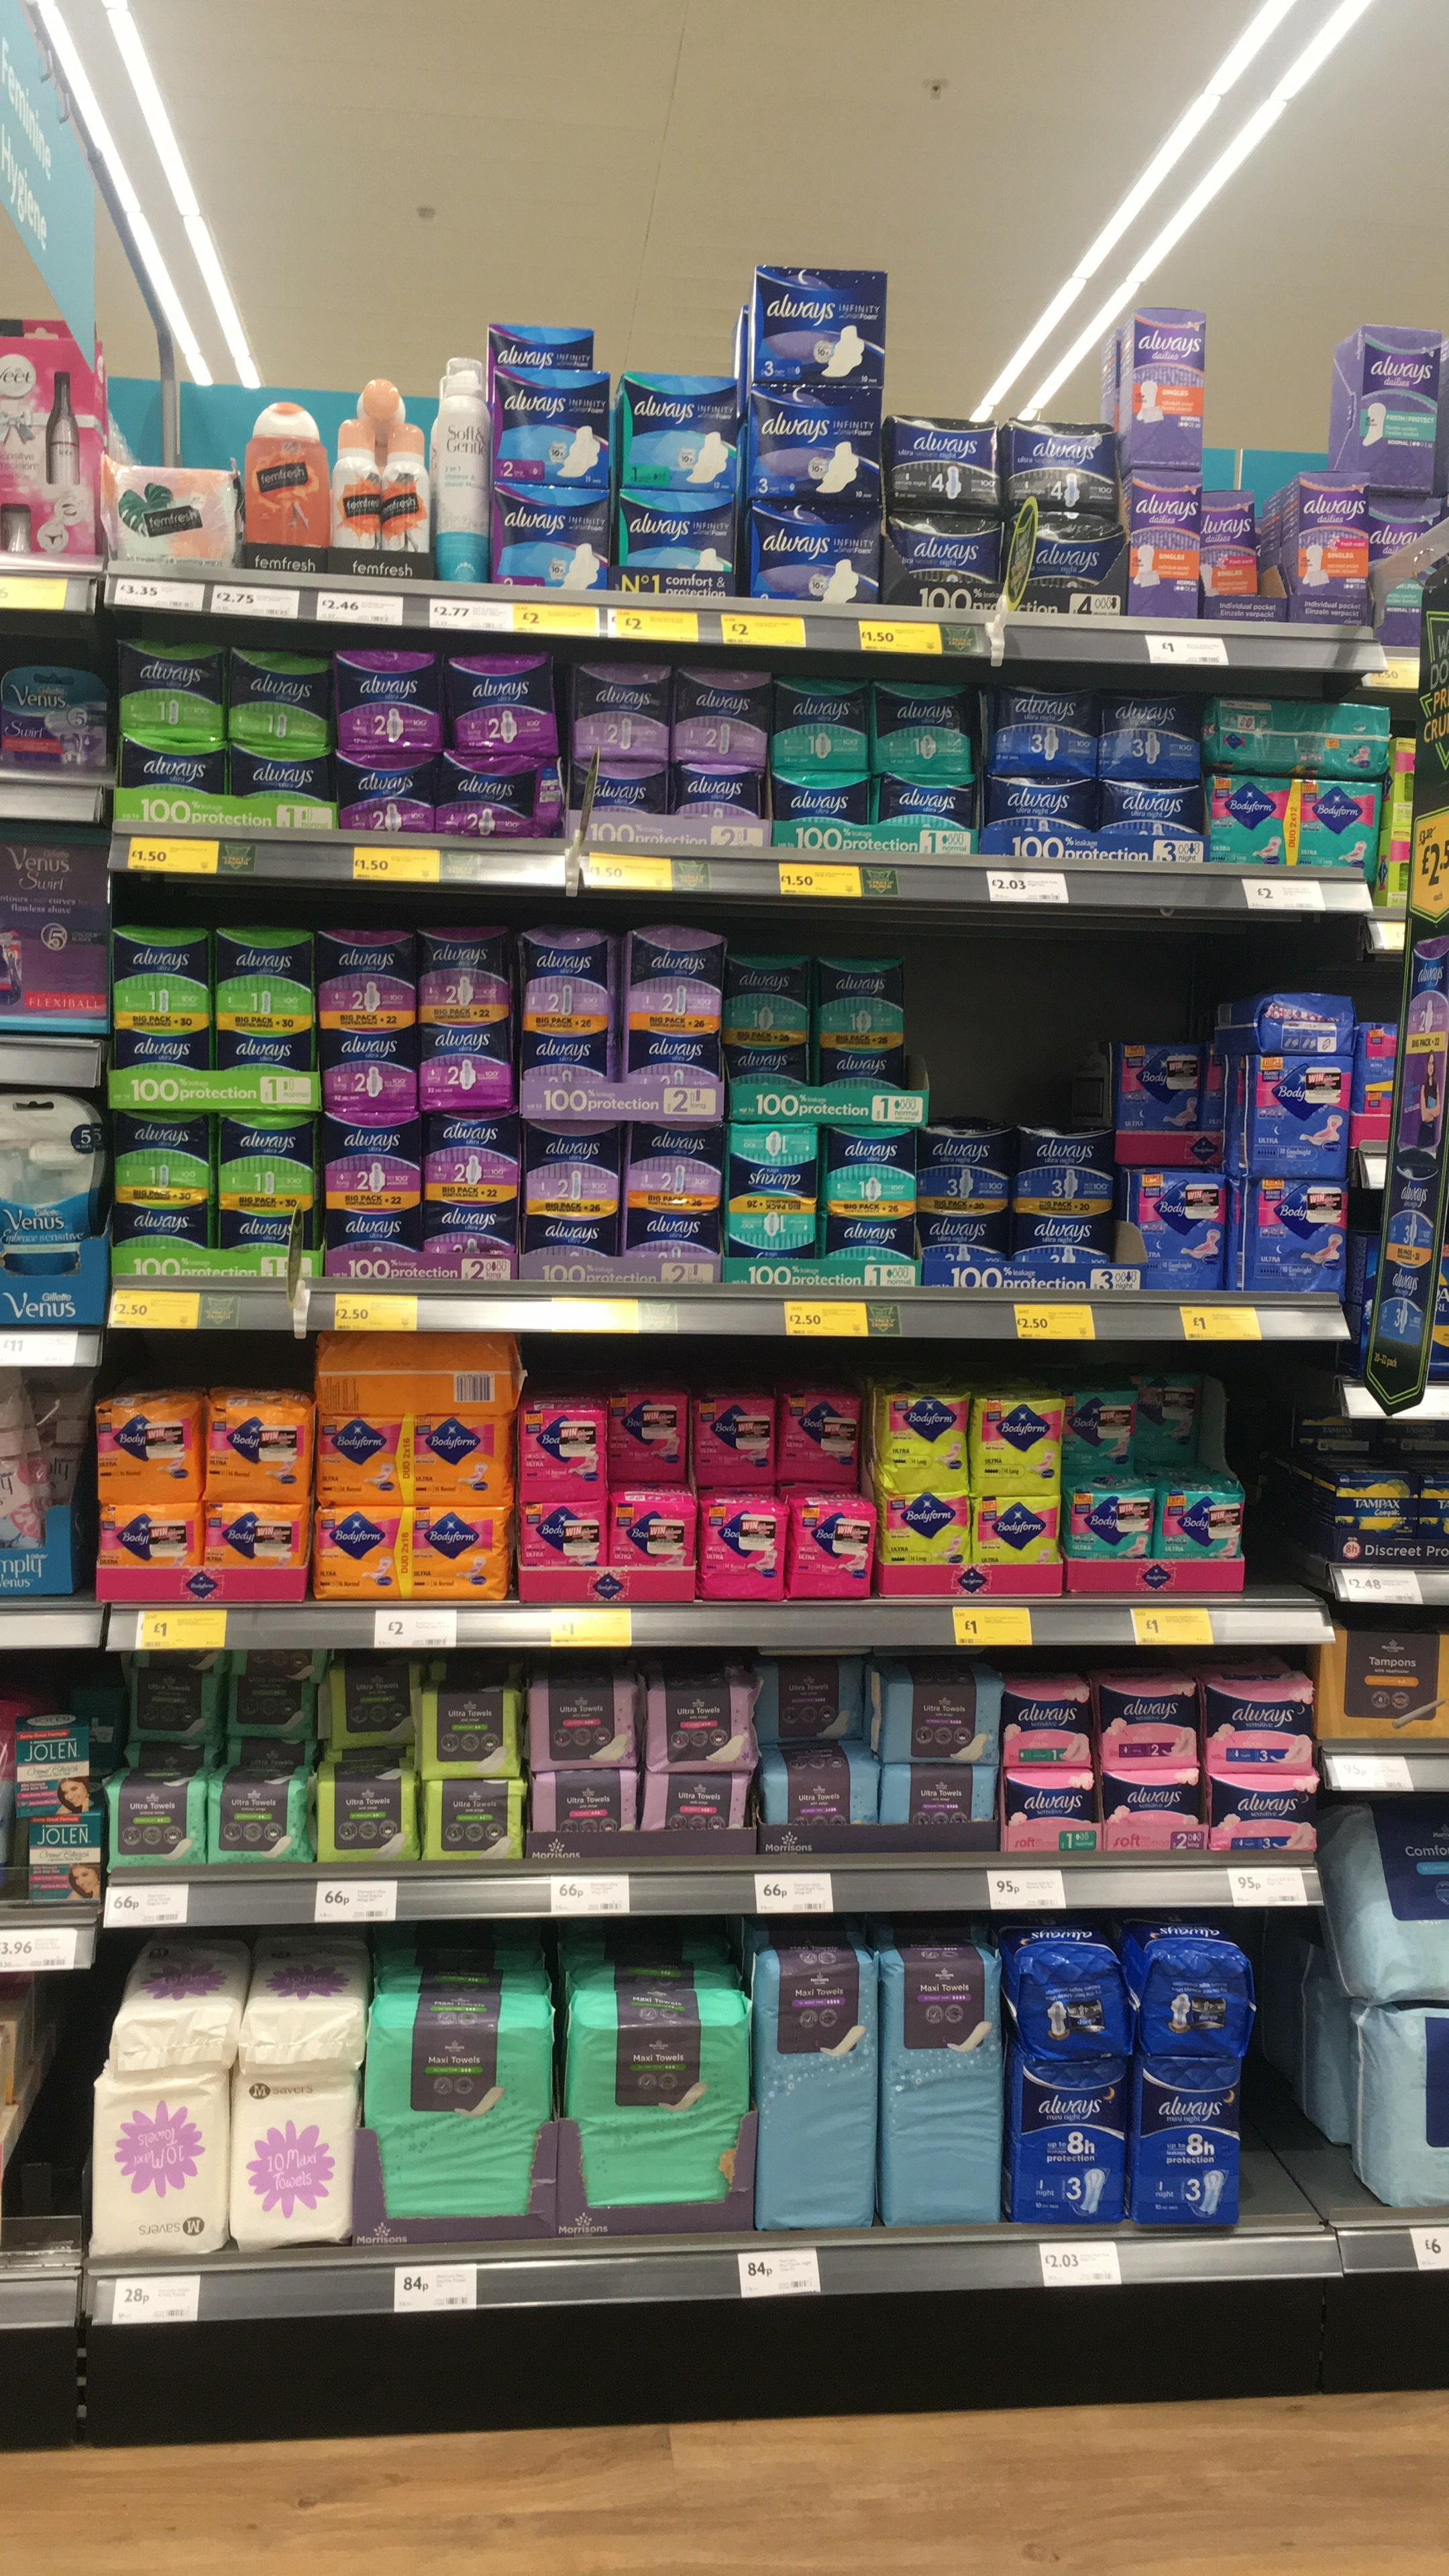empty: (14, 2020, 94, 2238), (1249, 1985, 1329, 2201), (1026, 1010, 1116, 1127), (932, 1012, 1021, 1129)
